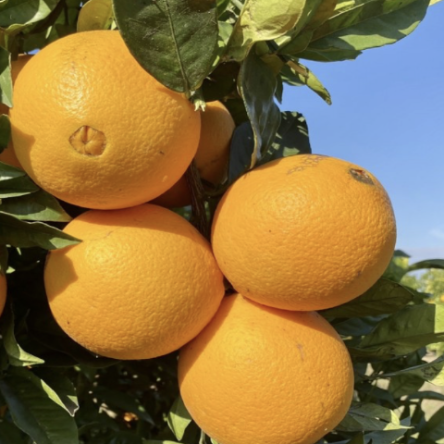orange: (2, 22, 222, 211), (151, 281, 376, 439), (29, 191, 230, 357), (211, 157, 418, 308)
